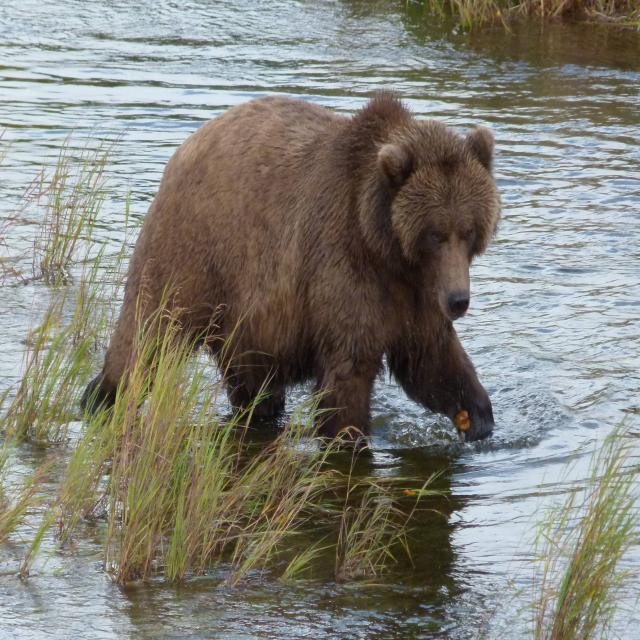bear face: (82, 94, 497, 437)
